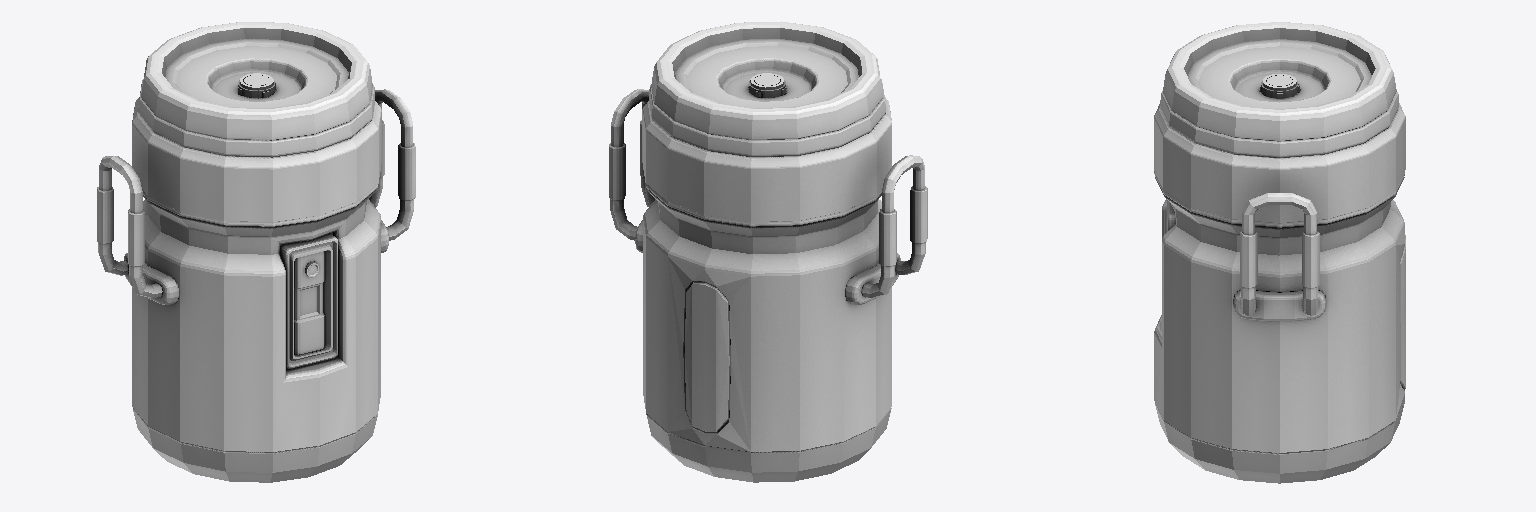
The picture shows the model from 3 angles: view 1: azimuth 30°, elevation 25°; view 2: azimuth 150°, elevation 25°; view 3: azimuth 270°, elevation 25°; orthographic projection.
Visible parts, largest first — view 1: Barrel_Cylinder.001; view 2: Barrel_Cylinder.001; view 3: Barrel_Cylinder.001.
Boxes of the visible parts, x1,y1,x2,y2 form: Barrel_Cylinder.001: [97, 22, 415, 482]; Barrel_Cylinder.001: [609, 21, 927, 482]; Barrel_Cylinder.001: [1154, 22, 1405, 483].
Size of the model in its own units: 2.19 by 2.77 by 1.68.
1 materials, 1 textured.